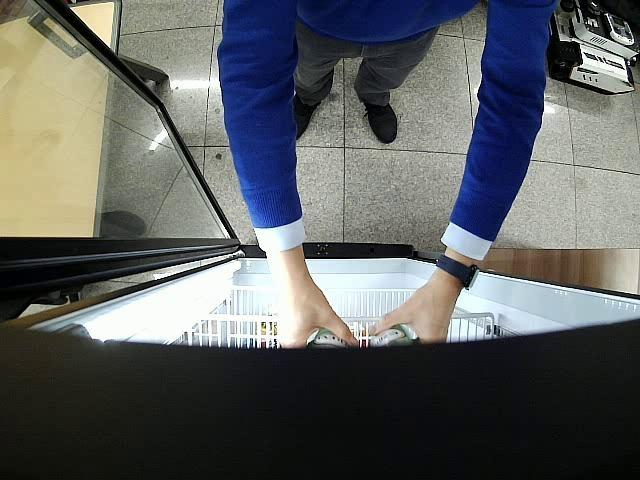18_trevi: (308, 326, 350, 348), (372, 324, 411, 347)
